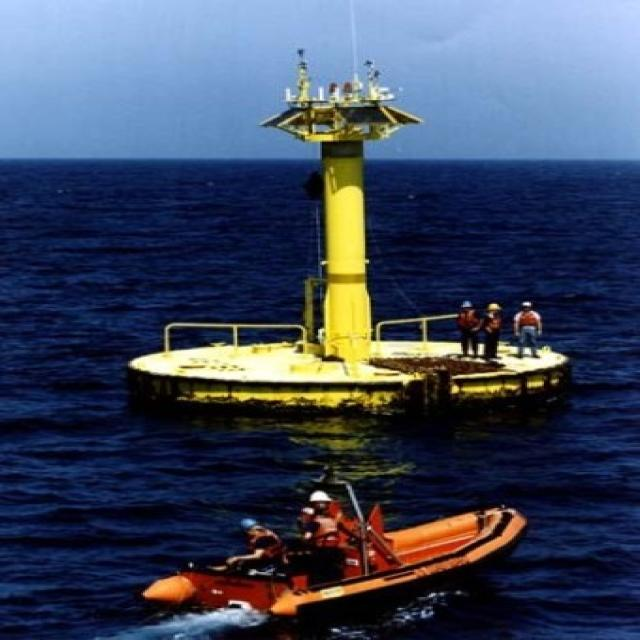marque: (126, 36, 575, 421)
